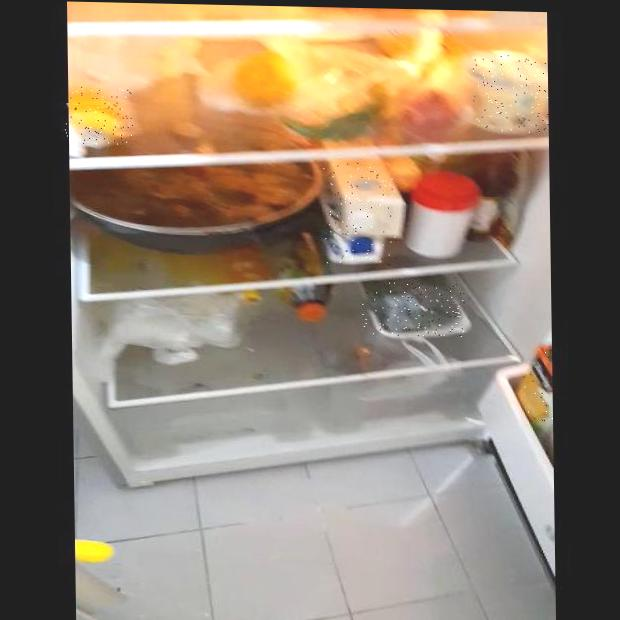broccoli: (362, 281, 465, 337)
juice: (520, 347, 553, 427)
lemon: (64, 86, 134, 145)
milk: (324, 162, 397, 266)
tomato: (407, 91, 463, 132)
yoghurt: (473, 54, 549, 133)
